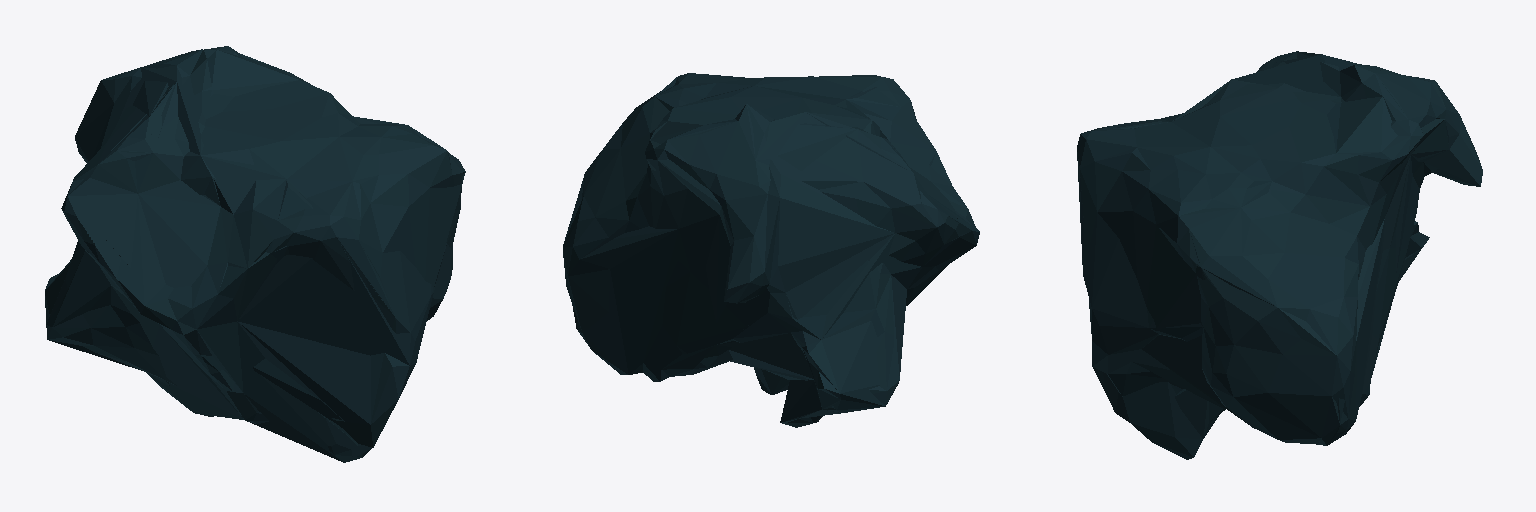
Rendered from RockBB.obj.
The picture shows the model from 3 angles: view 1: azimuth 30°, elevation 25°; view 2: azimuth 150°, elevation 25°; view 3: azimuth 270°, elevation 25°; orthographic projection.
Parts seen in each view (by area): view 1: Rock_B_LOD0 Rock_B, Rock_B Rock_B_LOD2, Rock_B Rock_B_LOD1; view 2: Rock_B_LOD0 Rock_B, Rock_B Rock_B_LOD1, Rock_B Rock_B_LOD2; view 3: Rock_B_LOD0 Rock_B, Rock_B Rock_B_LOD1, Rock_B Rock_B_LOD2.
Part boxes in pixels (x1,y1,x2,y2): Rock_B_LOD0 Rock_B: (45,46,465,462); Rock_B Rock_B_LOD2: (49,50,443,462); Rock_B Rock_B_LOD1: (45,46,465,447); Rock_B_LOD0 Rock_B: (563,73,979,427); Rock_B Rock_B_LOD1: (563,78,978,422); Rock_B Rock_B_LOD2: (572,77,957,422); Rock_B_LOD0 Rock_B: (1080,51,1482,459); Rock_B Rock_B_LOD1: (1077,51,1481,445); Rock_B Rock_B_LOD2: (1089,54,1480,424).
Bounding box in the file's own units: 6.75 × 6.42 × 6.44.